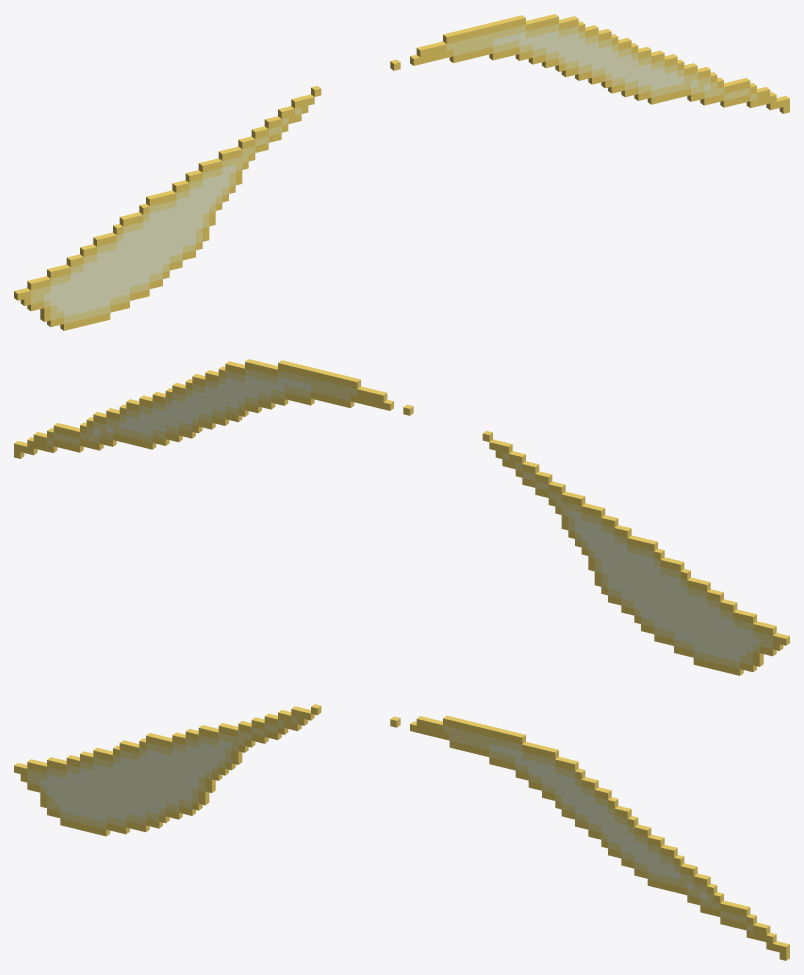
The model's file is Fight_740_2_06_fx.obj.
3 views of the same model, one above another, from view 1: azimuth 30°, elevation 25°; view 2: azimuth 150°, elevation 25°; view 3: azimuth 330°, elevation 25° (orthographic).
Bounding box in the file's own units: 11.7 × 2.9 × 0.1.
1 material, 1 textured.
